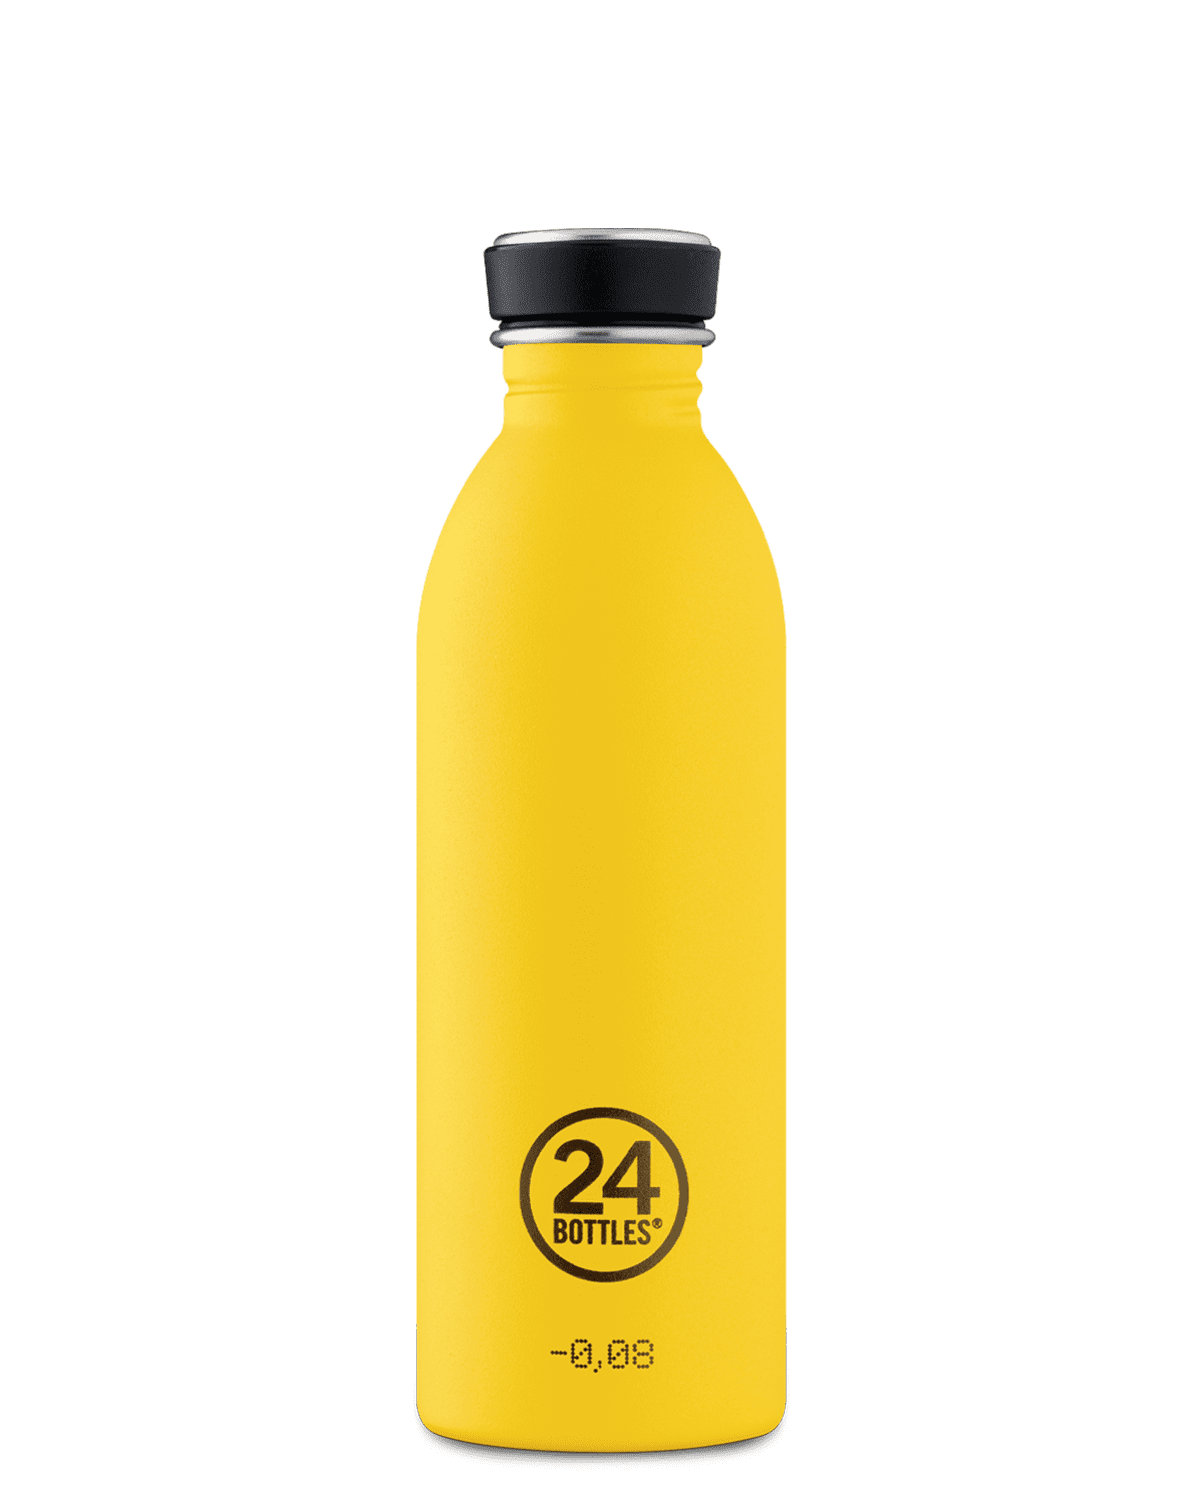bottle_cap: (432, 208, 804, 359)
water_bottle: (349, 158, 916, 1480)
